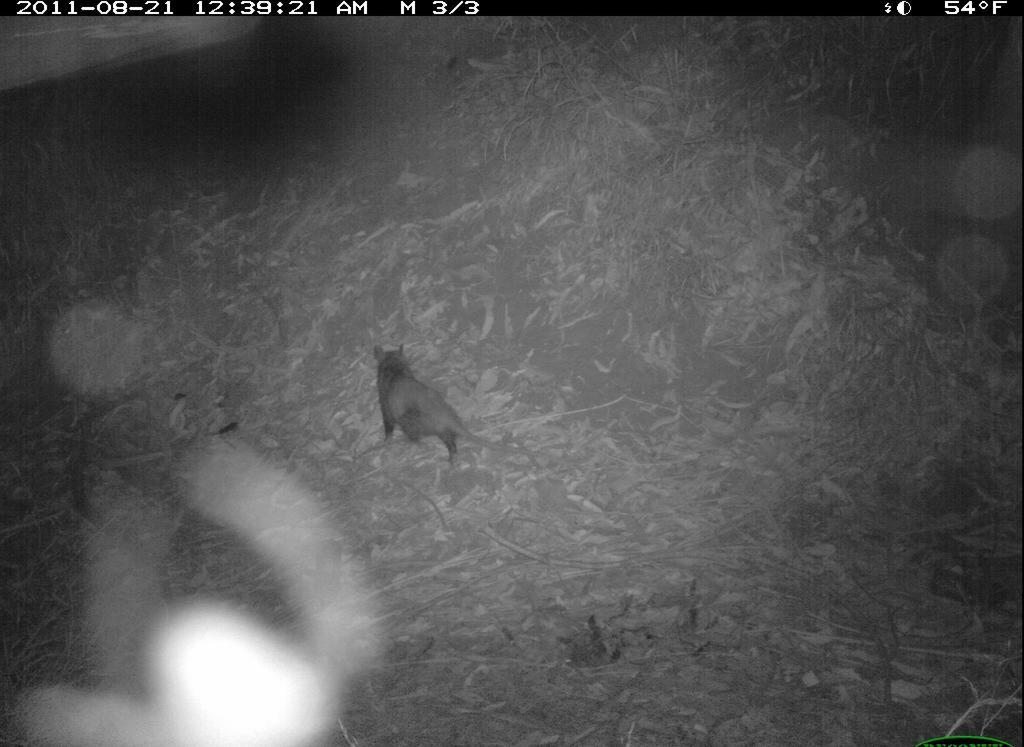opossum: (358, 337, 538, 497)
